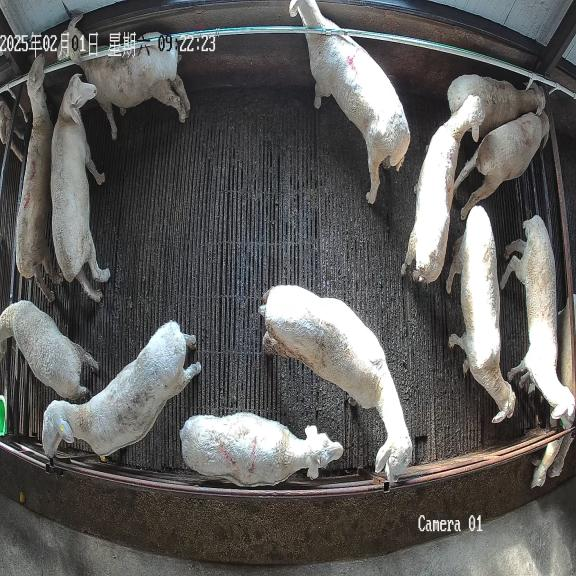drinking: (454, 112, 549, 219)
stand: (259, 285, 412, 482), (289, 0, 410, 204), (42, 322, 201, 457), (57, 14, 190, 139), (401, 94, 485, 283), (500, 216, 574, 426), (449, 206, 515, 422), (51, 74, 110, 302), (180, 412, 343, 486), (16, 54, 63, 302), (0, 300, 98, 399), (448, 74, 544, 136)
